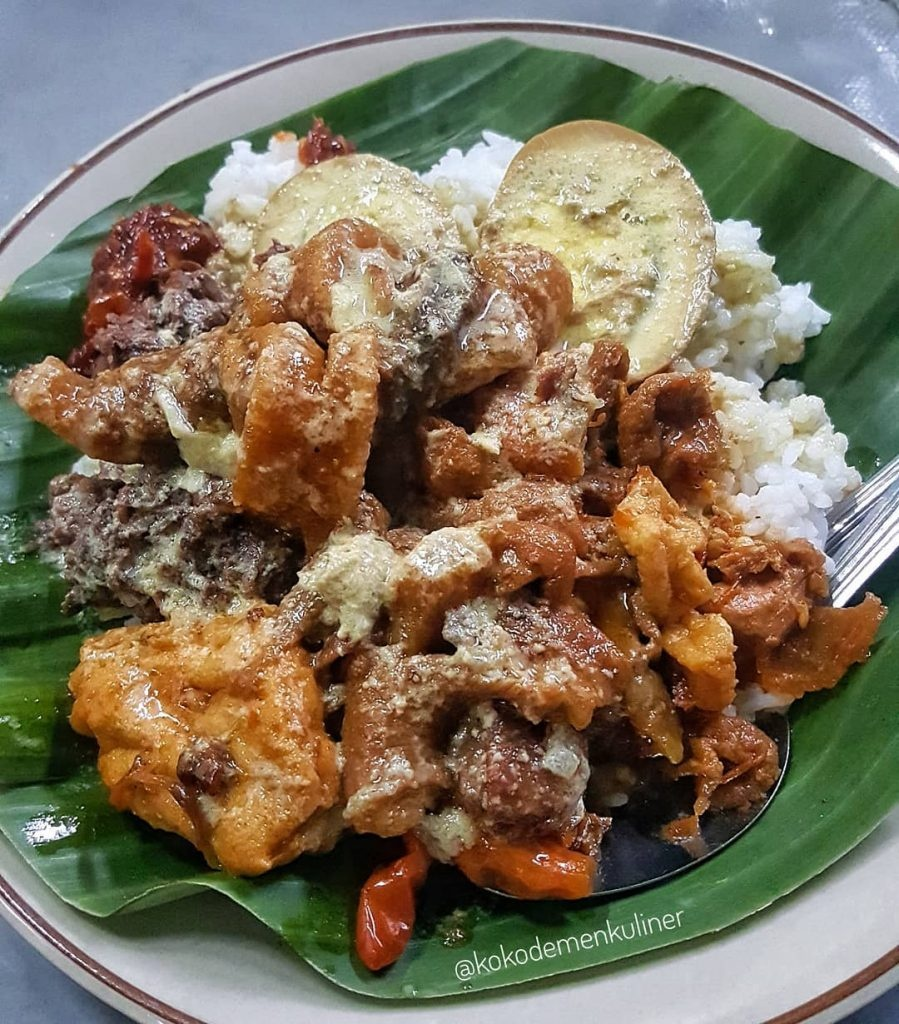gudeg: (16, 123, 887, 870)
